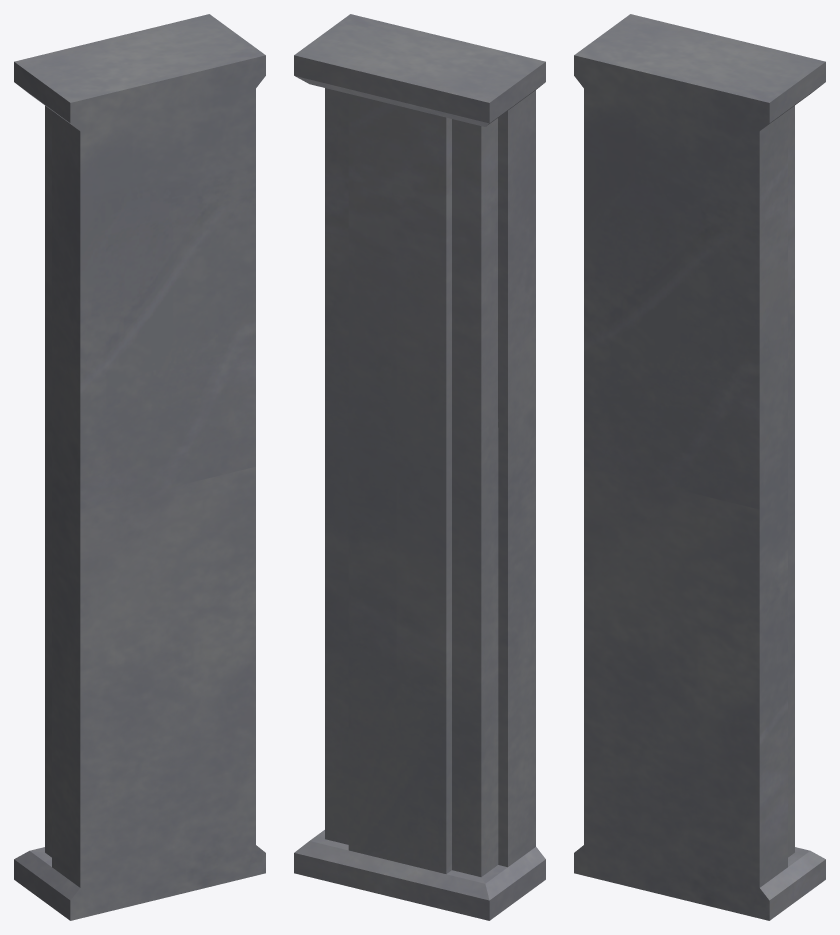
The model's file is Pillar.001.fbx.
3 views of the same model, side by side, from view 1: azimuth 30°, elevation 25°; view 2: azimuth 150°, elevation 25°; view 3: azimuth 330°, elevation 25° (orthographic).
Parts seen in each view (by area): view 1: Pillar.001; view 2: Pillar.001; view 3: Pillar.001.
Boxes of the visible parts, box(x1,y1,x2,y2) form: Pillar.001: box(14, 14, 265, 920); Pillar.001: box(294, 14, 545, 920); Pillar.001: box(574, 14, 825, 920).
Bounding box in the file's own units: 100 × 400 × 50.
